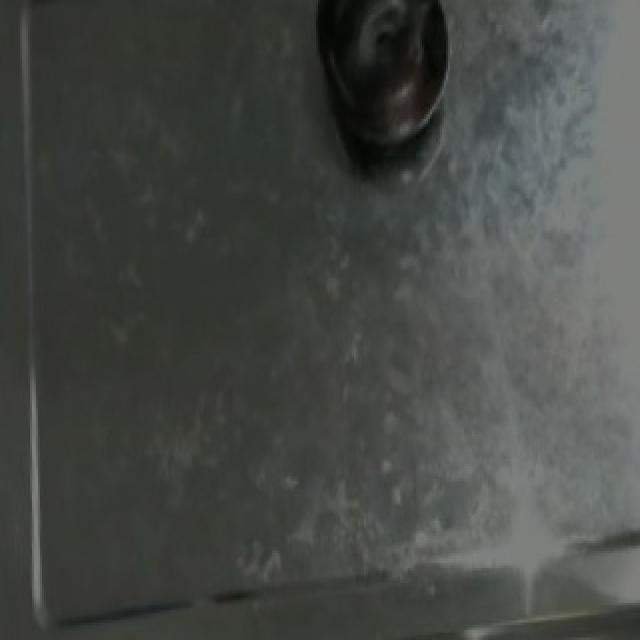Fruit: (316, 0, 458, 159)
